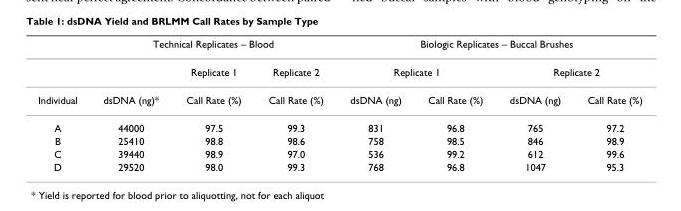table: (37, 37, 641, 172)
table column: (171, 37, 254, 172), (89, 37, 171, 172), (254, 37, 336, 172), (414, 37, 495, 172), (336, 37, 414, 172), (495, 37, 573, 172), (573, 37, 641, 172), (37, 37, 89, 172)
table column header: (37, 37, 641, 113)
table row: (37, 57, 641, 85), (37, 85, 641, 113), (37, 113, 641, 134), (37, 37, 641, 57), (37, 146, 641, 159), (37, 159, 641, 172), (37, 134, 641, 146)
table spanning cell: (336, 37, 641, 57), (89, 37, 336, 57), (171, 57, 254, 113), (89, 57, 171, 113), (254, 57, 336, 113), (336, 57, 495, 85), (495, 57, 641, 85), (37, 37, 89, 113)
